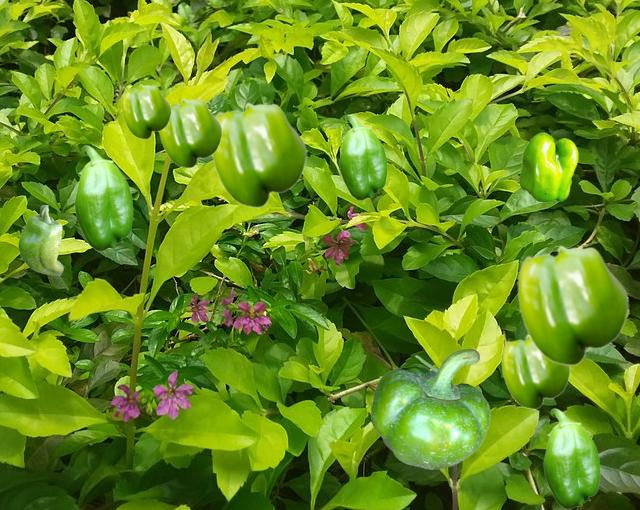bell_pepper: (371, 348, 489, 468), (517, 245, 628, 365), (211, 102, 306, 207), (74, 145, 132, 250), (543, 408, 599, 508), (501, 334, 569, 408), (158, 98, 221, 167), (519, 132, 577, 201), (339, 115, 386, 199), (18, 205, 62, 274), (121, 84, 170, 138)
